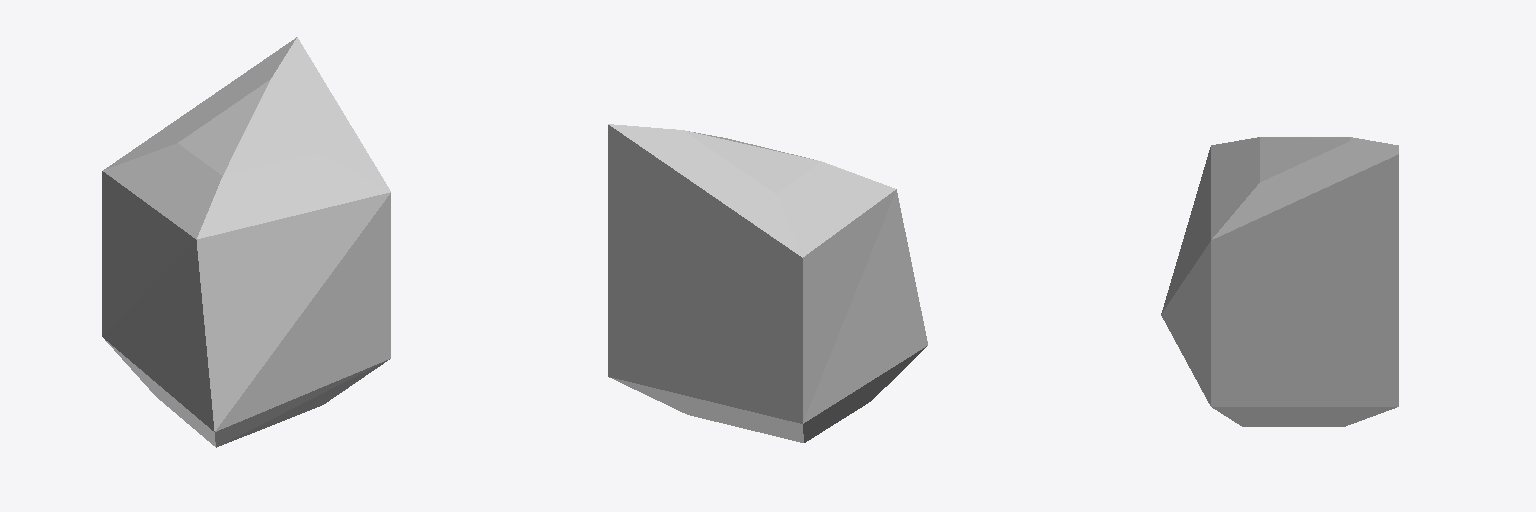
File: Trash17.obj
3 views of the same model, side by side, from view 1: azimuth 30°, elevation 25°; view 2: azimuth 150°, elevation 25°; view 3: azimuth 270°, elevation 25° (orthographic).
Parts seen in each view (by area): view 1: Trash17; view 2: Trash17; view 3: Trash17.
Part boxes in pixels (x1,y1,x2,y2): Trash17: (102,37,390,447); Trash17: (608,124,927,442); Trash17: (1161,137,1398,426).
Bounding box in the file's own units: 4.11 × 5.88 × 4.2.